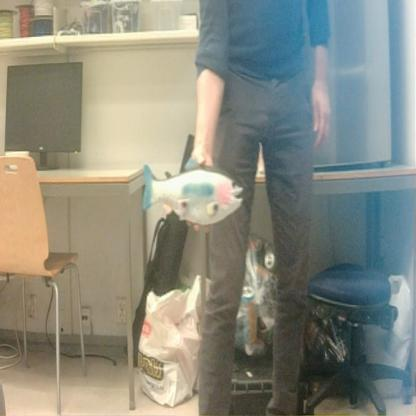rubberfish: (140, 152, 246, 230)
